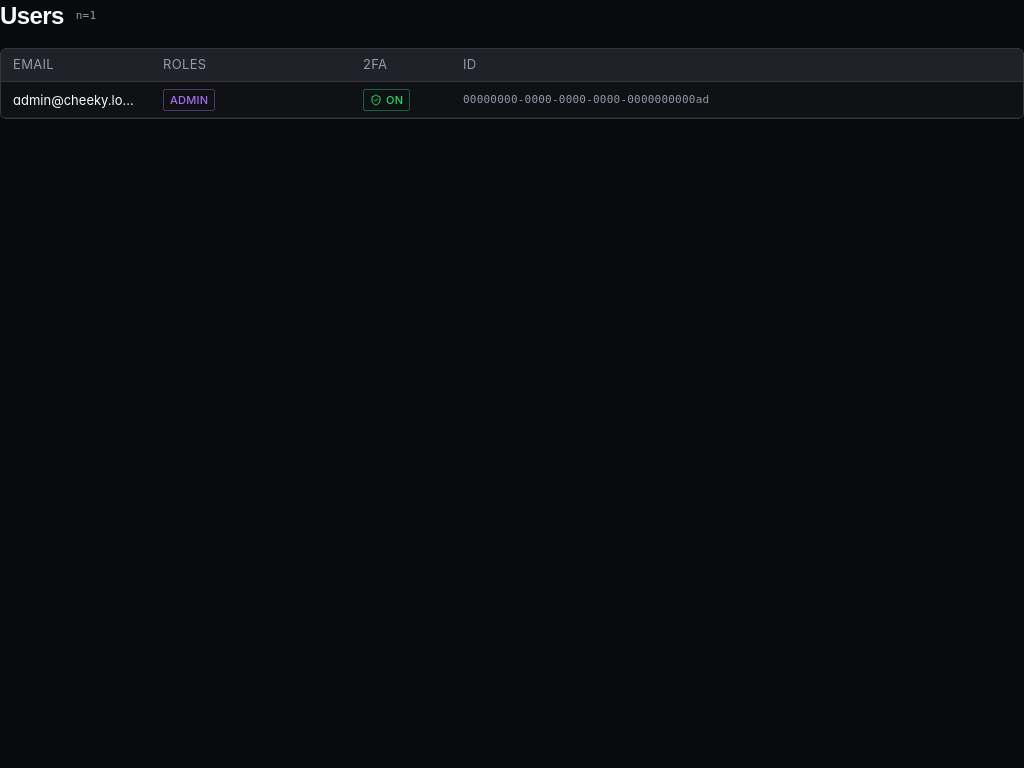
UsersView › surfaces the 409 last-admin guard inline
What coordinates should you click on to do the following:
click the text "admin@cheeky.local"
I would click on:
 (76, 100)
Its box is x1=13 y1=90 x2=139 y2=110.
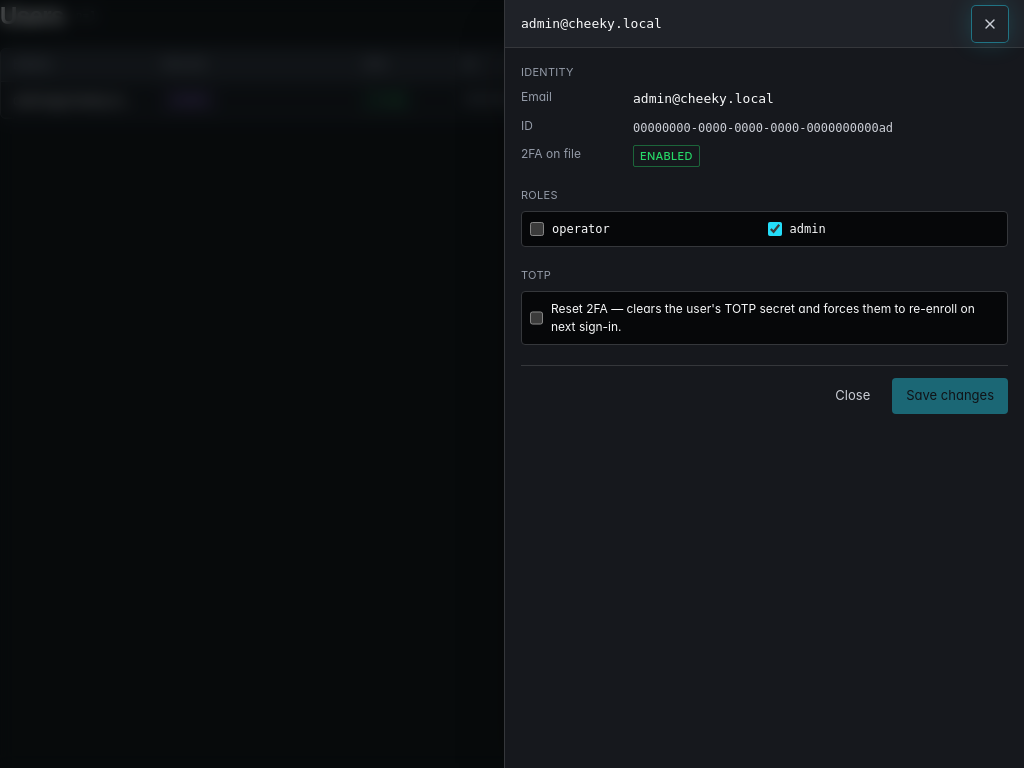
What coordinates should you click on to do the following:
click the checkbox labelled "admin"
I would click on:
 (774, 229)
Its box is x1=768 y1=222 x2=782 y2=236.
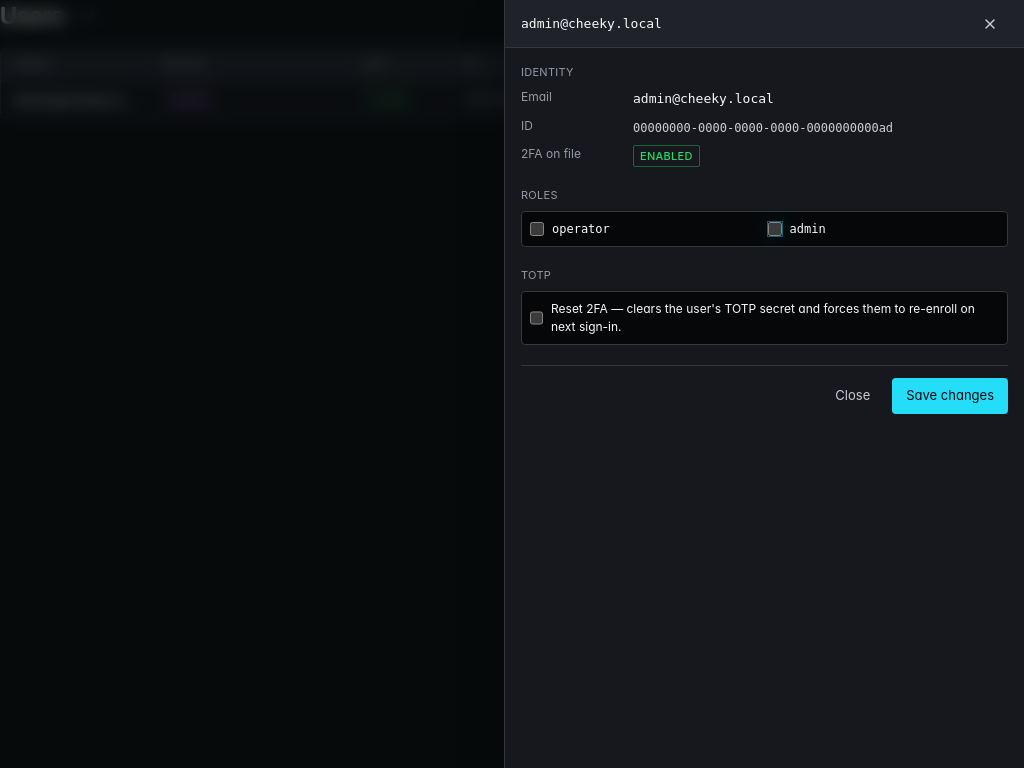
What coordinates should you click on to do the following:
click the button "Save changes"
I would click on:
 (950, 396)
Its box is x1=892 y1=378 x2=1008 y2=414.
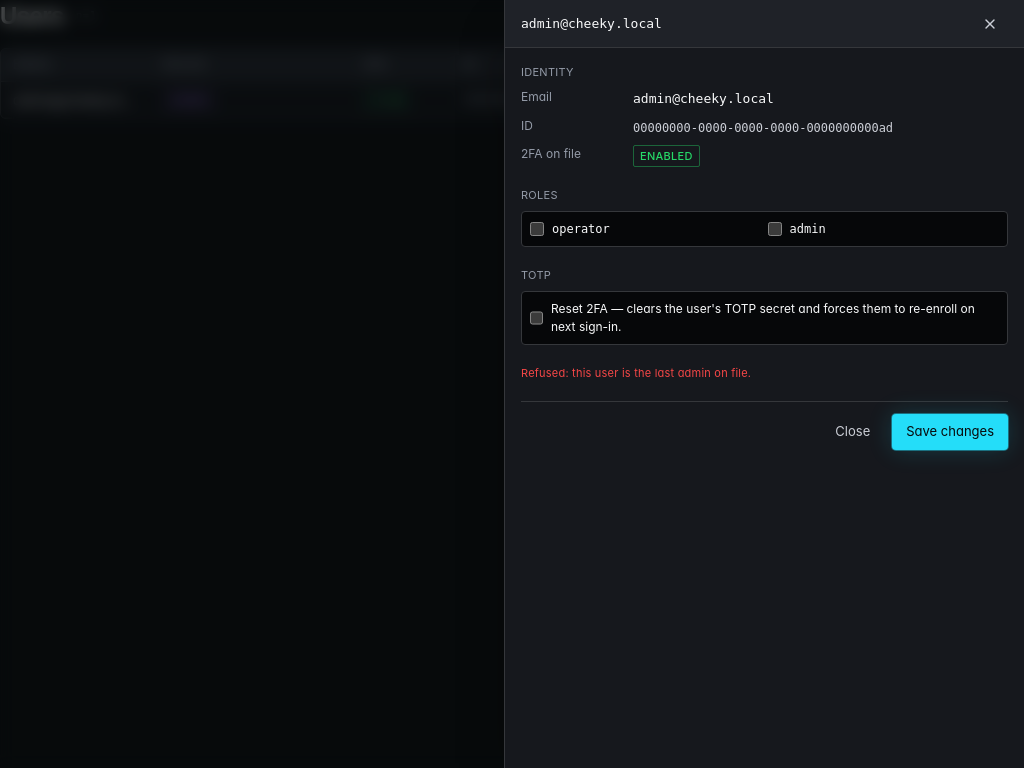
Now the message with test id "edit-user-error" shows "last admin", box x1=521 y1=366 x2=751 y2=380
